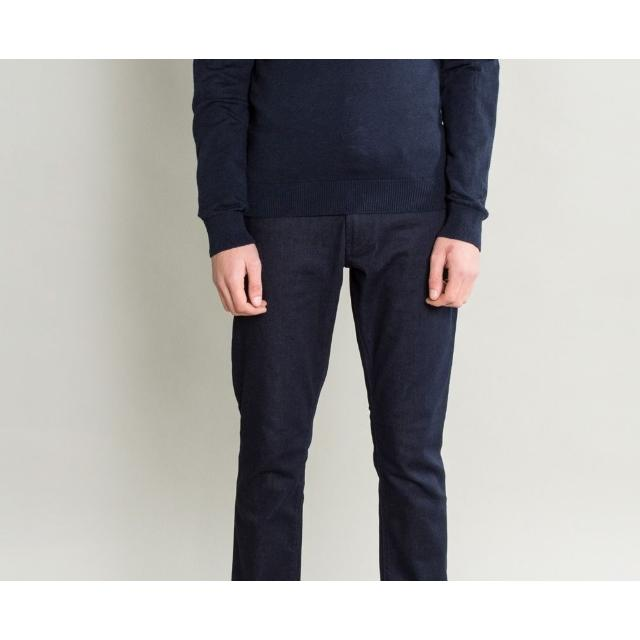cotton: (192, 59, 496, 254)
